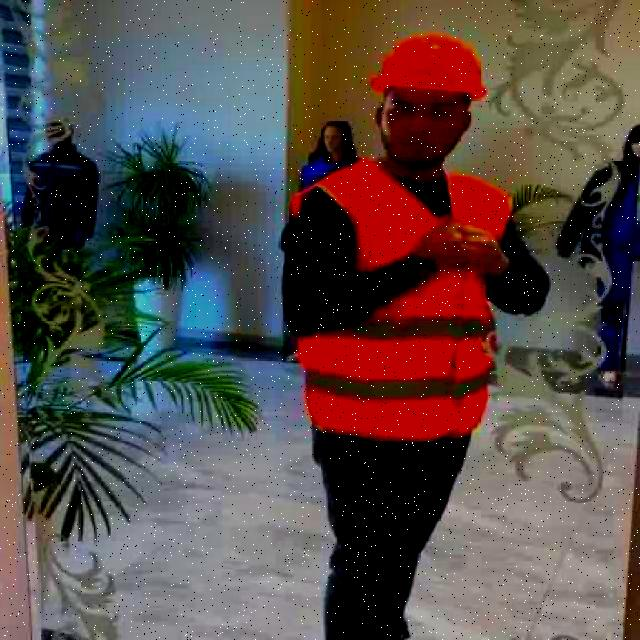Helmet: (370, 34, 490, 98)
Mask: (288, 163, 518, 444), (546, 152, 639, 372), (12, 137, 112, 248)
